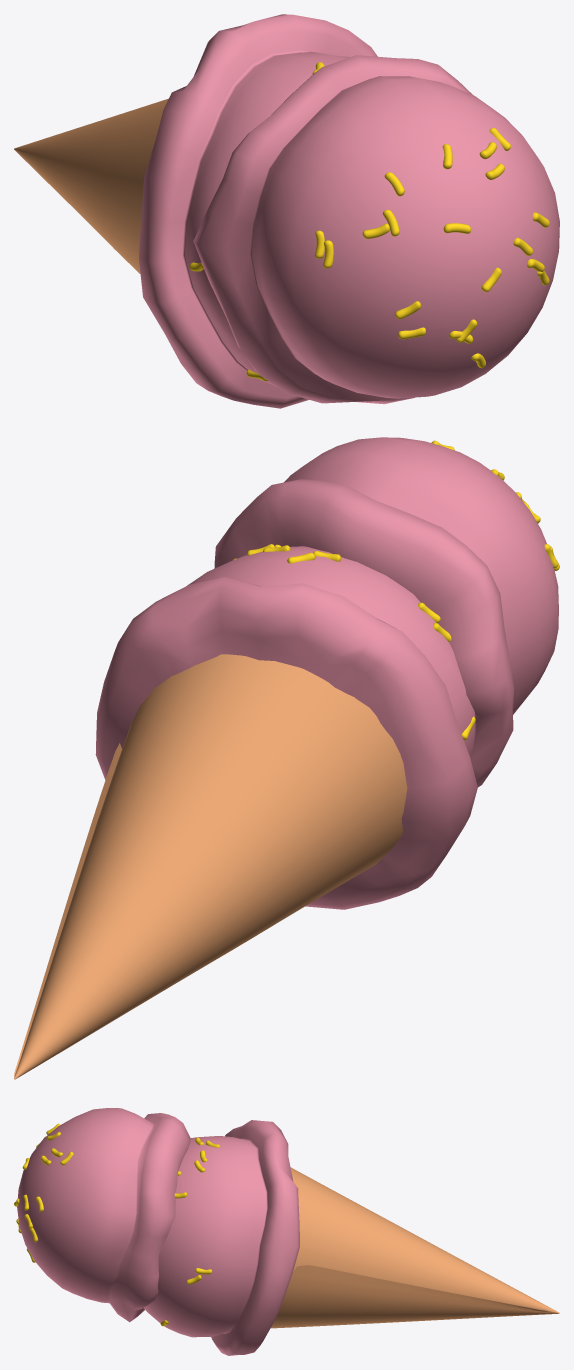
Rendered from Icecream Cone.fbx.
The picture shows the model from 3 angles, top to bottom: view 1: azimuth 30°, elevation 25°; view 2: azimuth 150°, elevation 25°; view 3: azimuth 270°, elevation 25°; orthographic projection. The views are drawn at different scales.
Parts seen in each view (by area): view 1: 球體.001; view 2: 球體.001; view 3: 球體.001.
Part boxes in pixels (x1,y1,x2,y2): 球體.001: (14,14,559,408); 球體.001: (14,437,559,1079); 球體.001: (14,1108,559,1355).
Size of the model in its own units: 127 by 143 by 319.
